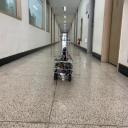cart: (53, 57, 73, 82)
